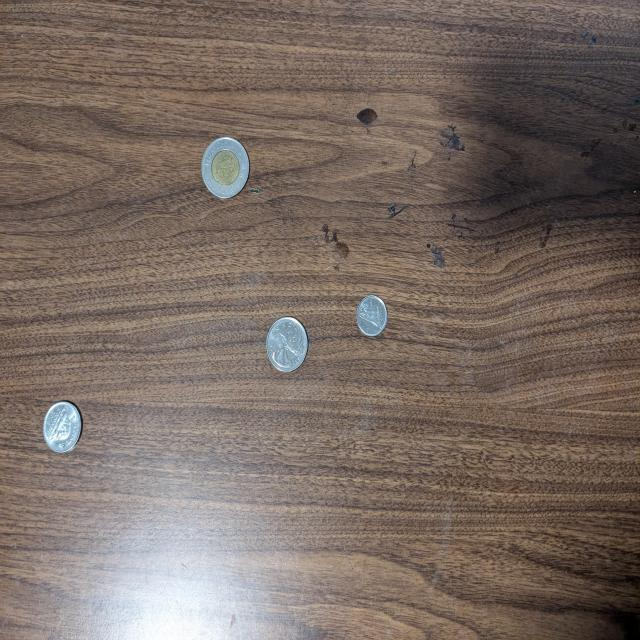dime: (356, 294, 389, 338)
nickel: (41, 402, 84, 456)
quarter: (264, 316, 310, 372)
toonie: (201, 134, 251, 201)
